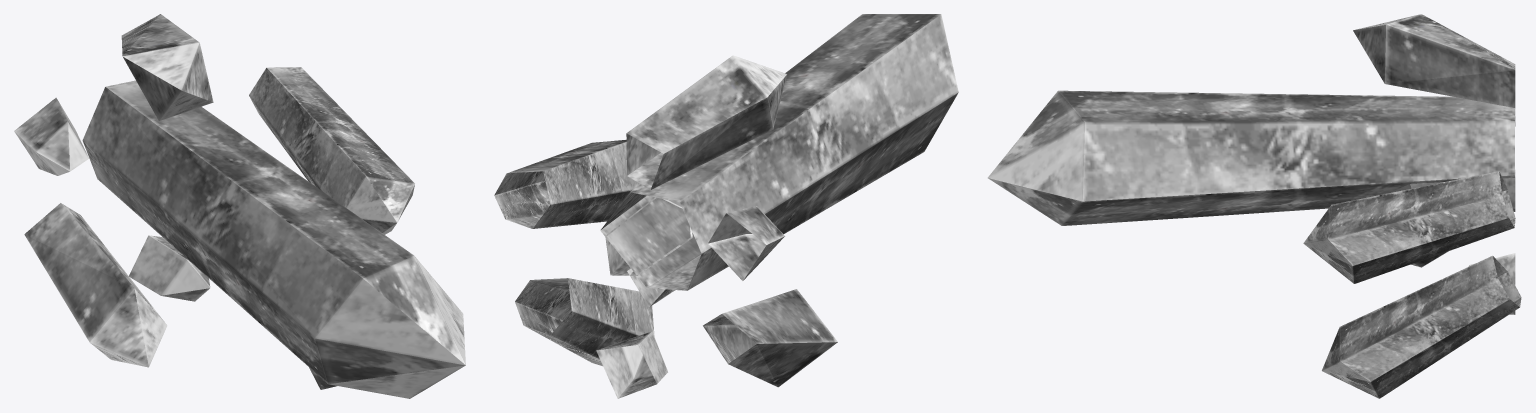
The model's file is world_shui1.obj.
3 renders of one model, left to right at view 1: azimuth 30°, elevation 25°; view 2: azimuth 150°, elevation 25°; view 3: azimuth 270°, elevation 25°, orthographic. The views are drawn at different scales.
Parts seen in each view (by area): view 1: World_shui1; view 2: World_shui1; view 3: World_shui1.
Boxes of the visible parts, x1,y1,x2,y2 form: World_shui1: (14,14,465,398); World_shui1: (494,14,958,398); World_shui1: (987,14,1521,398).
Bounding box in the file's own units: 39.23 × 45.49 × 69.45.
Materials: 1 (1 with a texture image).
